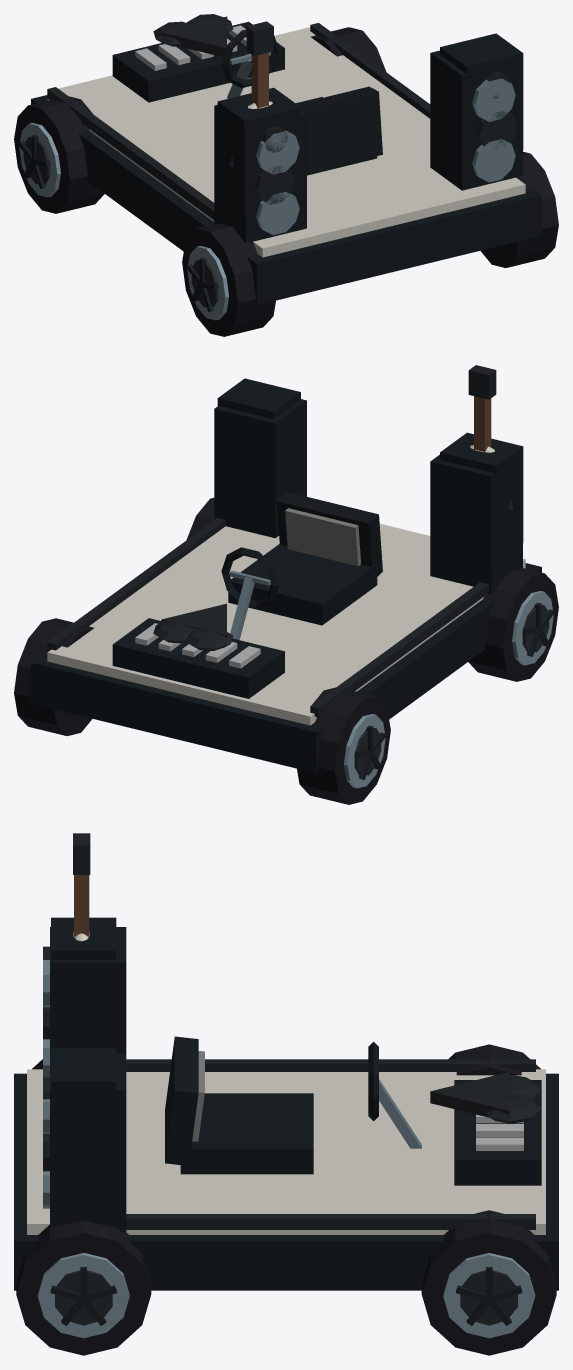
Rendered from kart.glb.
The picture shows the model from 3 angles, top to bottom: view 1: azimuth 30°, elevation 25°; view 2: azimuth 150°, elevation 25°; view 3: azimuth 270°, elevation 25°; orthographic projection. The views are drawn at different scales.
Parts seen in each view (by area): view 1: identity-stage-stage-platform-and-pa-towers, identity-stage-motif-speakers, wheel-front-left, wheel-rear-left, identity-stage-driver-cockpit, wheel-rear-right, identity-stage-motif-heart, identity-stage-motif-guitar, wheel-front-right; view 2: identity-stage-stage-platform-and-pa-towers, identity-stage-driver-cockpit, wheel-front-left, wheel-rear-left, identity-stage-motif-speakers, wheel-front-right, identity-stage-motif-heart, identity-stage-motif-guitar; view 3: identity-stage-stage-platform-and-pa-towers, identity-stage-driver-cockpit, wheel-front-right, wheel-rear-right, identity-stage-motif-speakers, identity-stage-motif-heart, identity-stage-motif-guitar, wheel-front-left.
Boxes of the visible parts, x1,y1,x2,y2 form: identity-stage-stage-platform-and-pa-towers: [31, 21, 541, 304]; identity-stage-motif-speakers: [217, 33, 523, 217]; wheel-front-left: [14, 96, 104, 213]; wheel-rear-left: [182, 223, 275, 336]; identity-stage-driver-cockpit: [221, 29, 382, 175]; wheel-rear-right: [480, 151, 558, 267]; identity-stage-motif-heart: [153, 14, 233, 56]; identity-stage-motif-guitar: [229, 21, 273, 174]; wheel-front-right: [310, 27, 386, 71]; identity-stage-stage-platform-and-pa-towers: [31, 399, 541, 772]; identity-stage-driver-cockpit: [221, 492, 382, 639]; wheel-front-left: [297, 687, 390, 804]; wheel-rear-left: [468, 568, 558, 681]; identity-stage-motif-speakers: [217, 378, 523, 562]; wheel-front-right: [14, 618, 93, 735]; identity-stage-motif-heart: [153, 603, 233, 650]; identity-stage-motif-guitar: [468, 365, 513, 517]; identity-stage-stage-platform-and-pa-towers: [14, 927, 558, 1290]; identity-stage-driver-cockpit: [165, 1036, 421, 1174]; wheel-front-right: [421, 1210, 556, 1355]; wheel-rear-right: [16, 1220, 151, 1355]; identity-stage-motif-speakers: [43, 917, 116, 1197]; identity-stage-motif-heart: [430, 1072, 541, 1123]; identity-stage-motif-guitar: [73, 833, 90, 941]; wheel-front-left: [448, 1044, 540, 1075].
Bounding box in the file's own units: 2.16 × 1.8 × 2.5.
